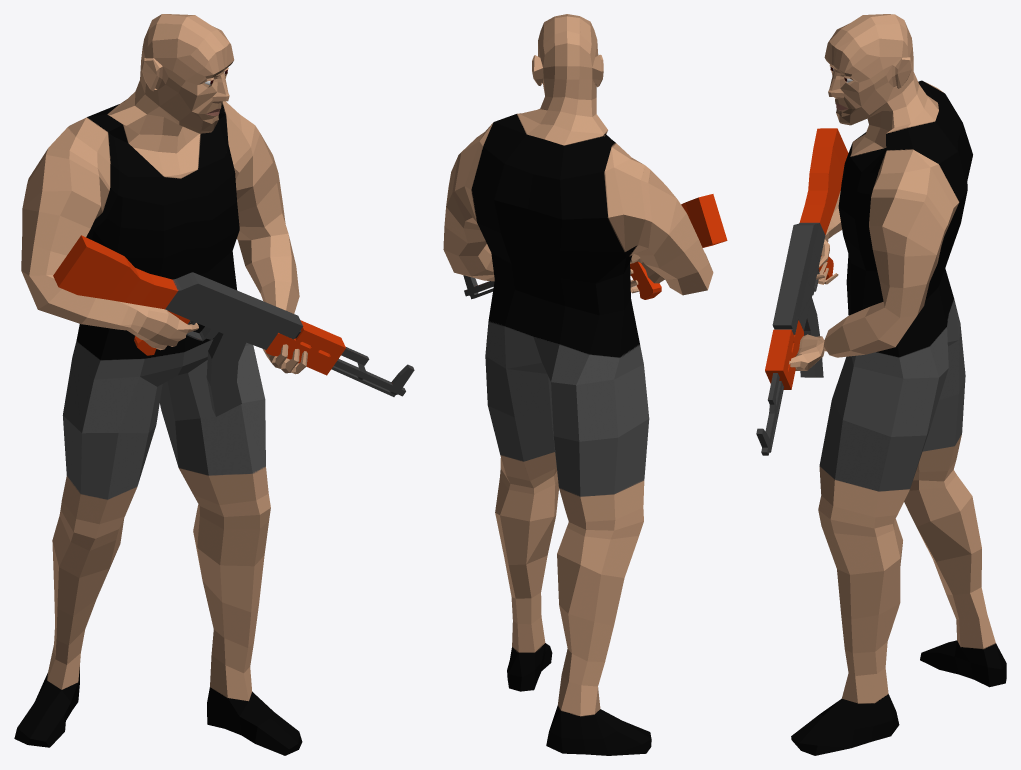
Rendered from PlayerIdle(114).obj.
The picture shows the model from 3 angles, left to right: view 1: azimuth 30°, elevation 25°; view 2: azimuth 150°, elevation 25°; view 3: azimuth 270°, elevation 25°; orthographic projection. The views are drawn at different scales.
Parts seen in each view (by area): view 1: Plane002, Object001; view 2: Plane002, Object001; view 3: Plane002, Object001.
Part boxes in pixels (x1,y1,x2,y2): Plane002: (14,14,307,755); Object001: (53,235,414,416); Plane002: (443,14,713,755); Object001: (463,194,727,299); Plane002: (789,14,1006,755); Object001: (756,128,848,455).
Bounding box in the file's own units: 844 × 1803 × 586.
